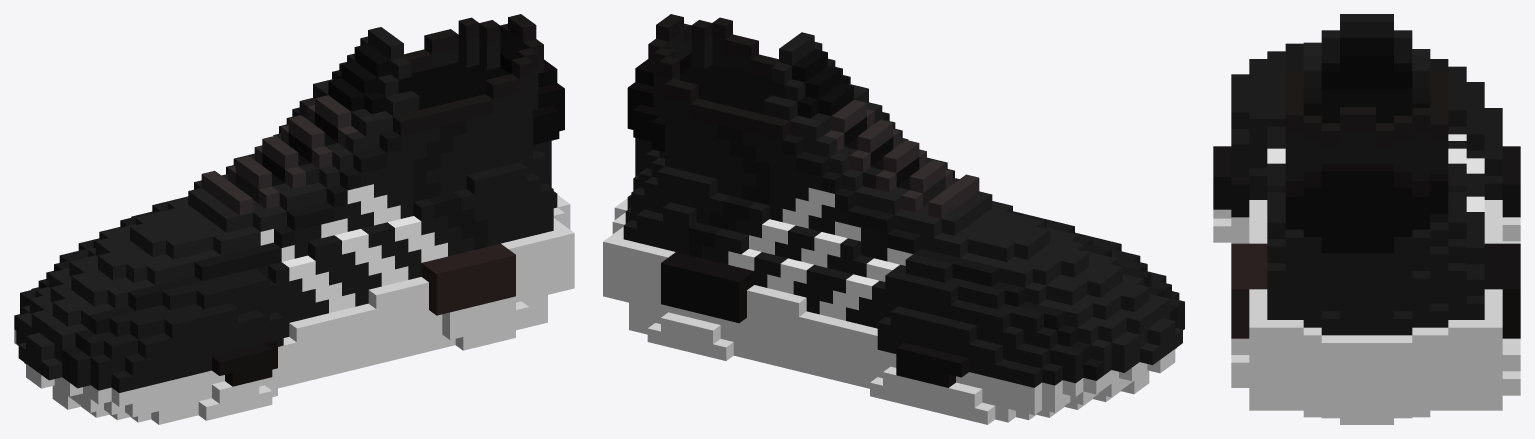
The model's file is Early Night.fbx.
The picture shows the model from 3 angles, left to right: view 1: azimuth 30°, elevation 25°; view 2: azimuth 150°, elevation 25°; view 3: azimuth 270°, elevation 25°; orthographic projection. The views are drawn at different scales.
Visible parts, largest first — view 1: Untitled; view 2: Untitled; view 3: Untitled.
Boxes of the visible parts, x1=… form: Untitled: x1=14, y1=14, x2=574, y2=424; Untitled: x1=603, y1=14, x2=1184, y2=424; Untitled: x1=1213, y1=14, x2=1520, y2=424.
Size of the model in its own units: 400 by 200 by 170.
